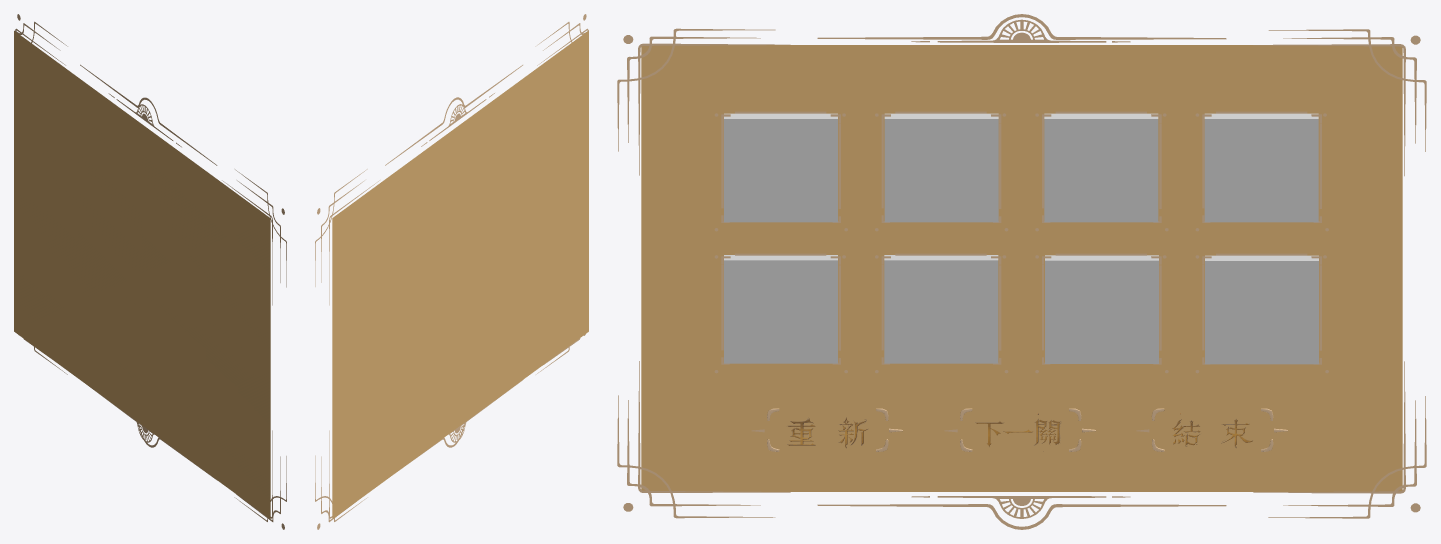
3 views of the same model, side by side, from view 1: azimuth 30°, elevation 25°; view 2: azimuth 150°, elevation 25°; view 3: azimuth 270°, elevation 25° (orthographic). The views are drawn at different scales.
Parts seen in each view (by area): view 1: UI_Board01, UI_Broad; view 2: UI_Board01, UI_Broad; view 3: UI_Board01, UI_Broad, blank_3, blank_4, blank_2, blank_8, blank_1, blank_6, blank_5, blank_7.
Boxes of the visible parts, x1=… form: UI_Board01: x1=14, y1=30, x2=270, y2=518; UI_Broad: x1=15, y1=14, x2=286, y2=529; UI_Board01: x1=332, y1=30, x2=588, y2=518; UI_Broad: x1=315, y1=14, x2=588, y2=529; UI_Board01: x1=641, y1=45, x2=1402, y2=491; UI_Broad: x1=617, y1=14, x2=1426, y2=529; blank_3: x1=1044, y1=113, x2=1158, y2=222; blank_4: x1=1204, y1=113, x2=1318, y2=222; blank_2: x1=884, y1=113, x2=998, y2=222; blank_8: x1=1205, y1=255, x2=1318, y2=364; blank_1: x1=724, y1=113, x2=837, y2=222; blank_6: x1=884, y1=255, x2=998, y2=363; blank_5: x1=724, y1=255, x2=837, y2=363; blank_7: x1=1045, y1=255, x2=1158, y2=363.
Size of the model in its own units: 2.31 by 83.57 by 119.
3 materials, 1 textured.
